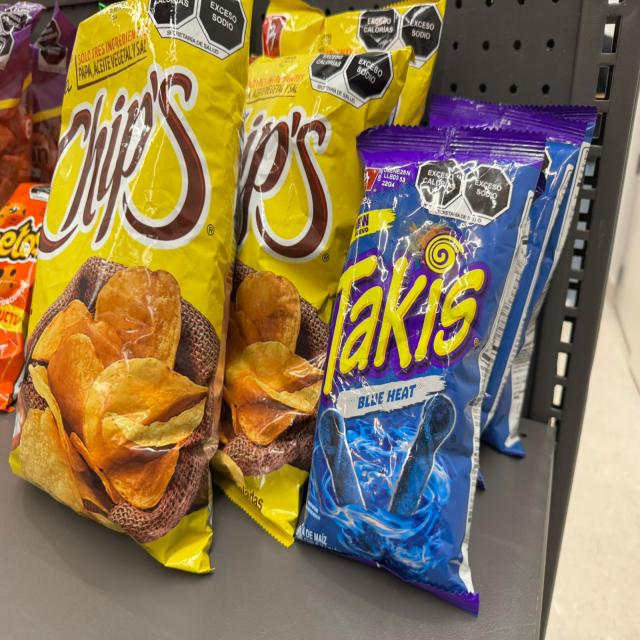CHEETOS TORCIDITOS 240GR: (0, 174, 66, 410)
Papas Chips Barcel 170 gr bolsa con sal: (9, 2, 260, 587), (207, 46, 415, 552), (257, 0, 450, 118)
Takis Blue 75g: (293, 136, 548, 624), (496, 105, 614, 472), (477, 143, 578, 475)
chicharrones de cerdo intenso: (24, 15, 95, 183), (0, 2, 53, 197)
